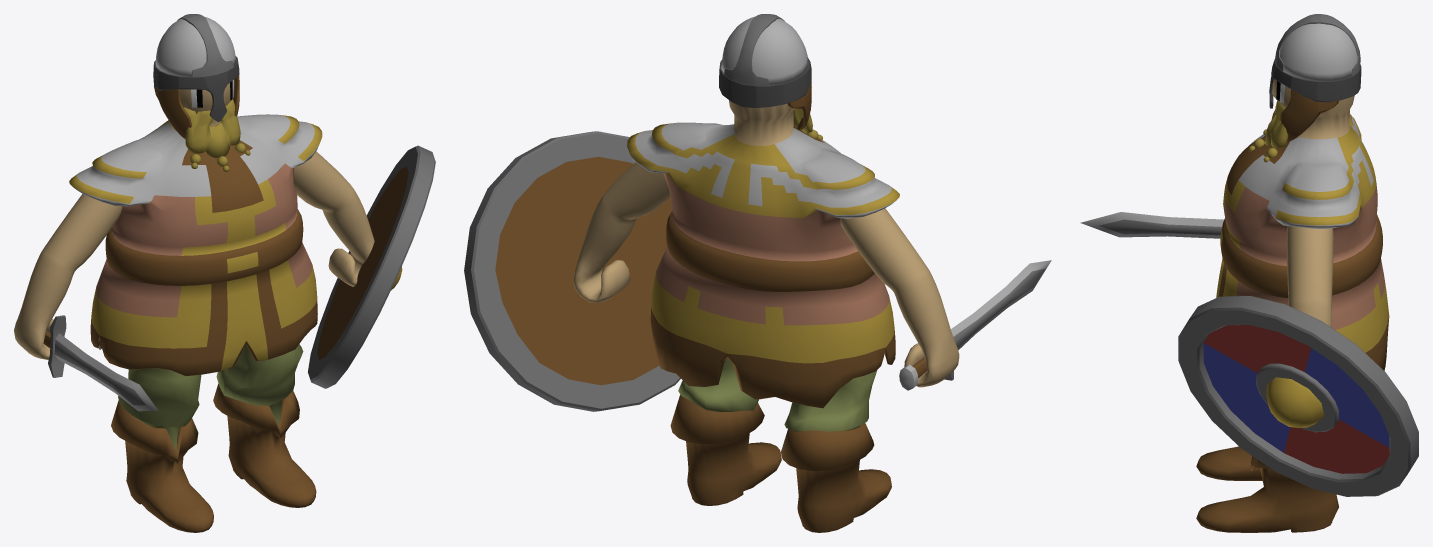
File: militiaPreview02.fbx
The picture shows the model from 3 angles, left to right: view 1: azimuth 30°, elevation 25°; view 2: azimuth 150°, elevation 25°; view 3: azimuth 270°, elevation 25°; orthographic projection. The views are drawn at different scales.
Parts seen in each view (by area): view 1: pSphere3, pCylinder16, pCylinder18, pPipe4, pCube9.001, pCube10.001, pCylinder17, pCube17.001, pCube13.001, pPipe5, pPipe6, pCube11 (+1 smaller); view 2: pSphere3, pCylinder18, pCylinder16, pCube9.001, pCube10.001, pPipe4, pCylinder17, pCube13.001, pPipe5, pCube12.001; view 3: pCylinder18, pSphere3, pCylinder16, pCube10.001, pCylinder17, pCube13.001, pSphere5, pPipe5, pPipe6, pCube17.001, pCube11, pCube12.001.
Boxes of the visible parts, x1,y1,x2,y2 form: pSphere3: [69, 79, 322, 376]; pCylinder16: [111, 384, 316, 532]; pCylinder18: [308, 145, 435, 388]; pPipe4: [118, 344, 303, 451]; pCube9.001: [14, 193, 121, 359]; pCube10.001: [293, 151, 374, 286]; pCylinder17: [155, 16, 236, 77]; pCube17.001: [183, 99, 250, 171]; pCube13.001: [54, 333, 158, 411]; pPipe5: [153, 56, 239, 122]; pPipe6: [154, 74, 239, 138]; pCube11: [186, 15, 233, 77]; pSphere3: [627, 100, 899, 408]; pCylinder18: [464, 131, 680, 411]; pCylinder16: [670, 394, 891, 532]; pCube9.001: [840, 208, 959, 387]; pCube10.001: [573, 162, 670, 302]; pPipe4: [678, 358, 877, 431]; pCylinder17: [721, 16, 808, 85]; pCube13.001: [951, 260, 1051, 349]; pPipe5: [719, 58, 811, 108]; pCube12.001: [724, 17, 771, 86]; pCylinder18: [1178, 296, 1418, 496]; pSphere3: [1216, 79, 1389, 370]; pCylinder16: [1196, 446, 1338, 532]; pCube10.001: [1286, 226, 1333, 327]; pCylinder17: [1280, 23, 1357, 81]; pCube13.001: [1080, 212, 1223, 238]; pSphere5: [1266, 377, 1324, 427]; pPipe5: [1269, 58, 1361, 108]; pPipe6: [1281, 90, 1338, 141]; pCube17.001: [1248, 101, 1288, 162]; pCube11: [1275, 14, 1321, 71]; pCube12.001: [1321, 14, 1360, 76].
Bounding box in the file's own units: 2.7 × 2.83 × 1.81.
